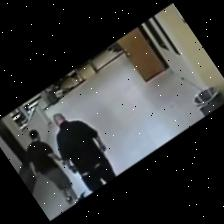person: (54, 113, 116, 191), (27, 130, 81, 202)
